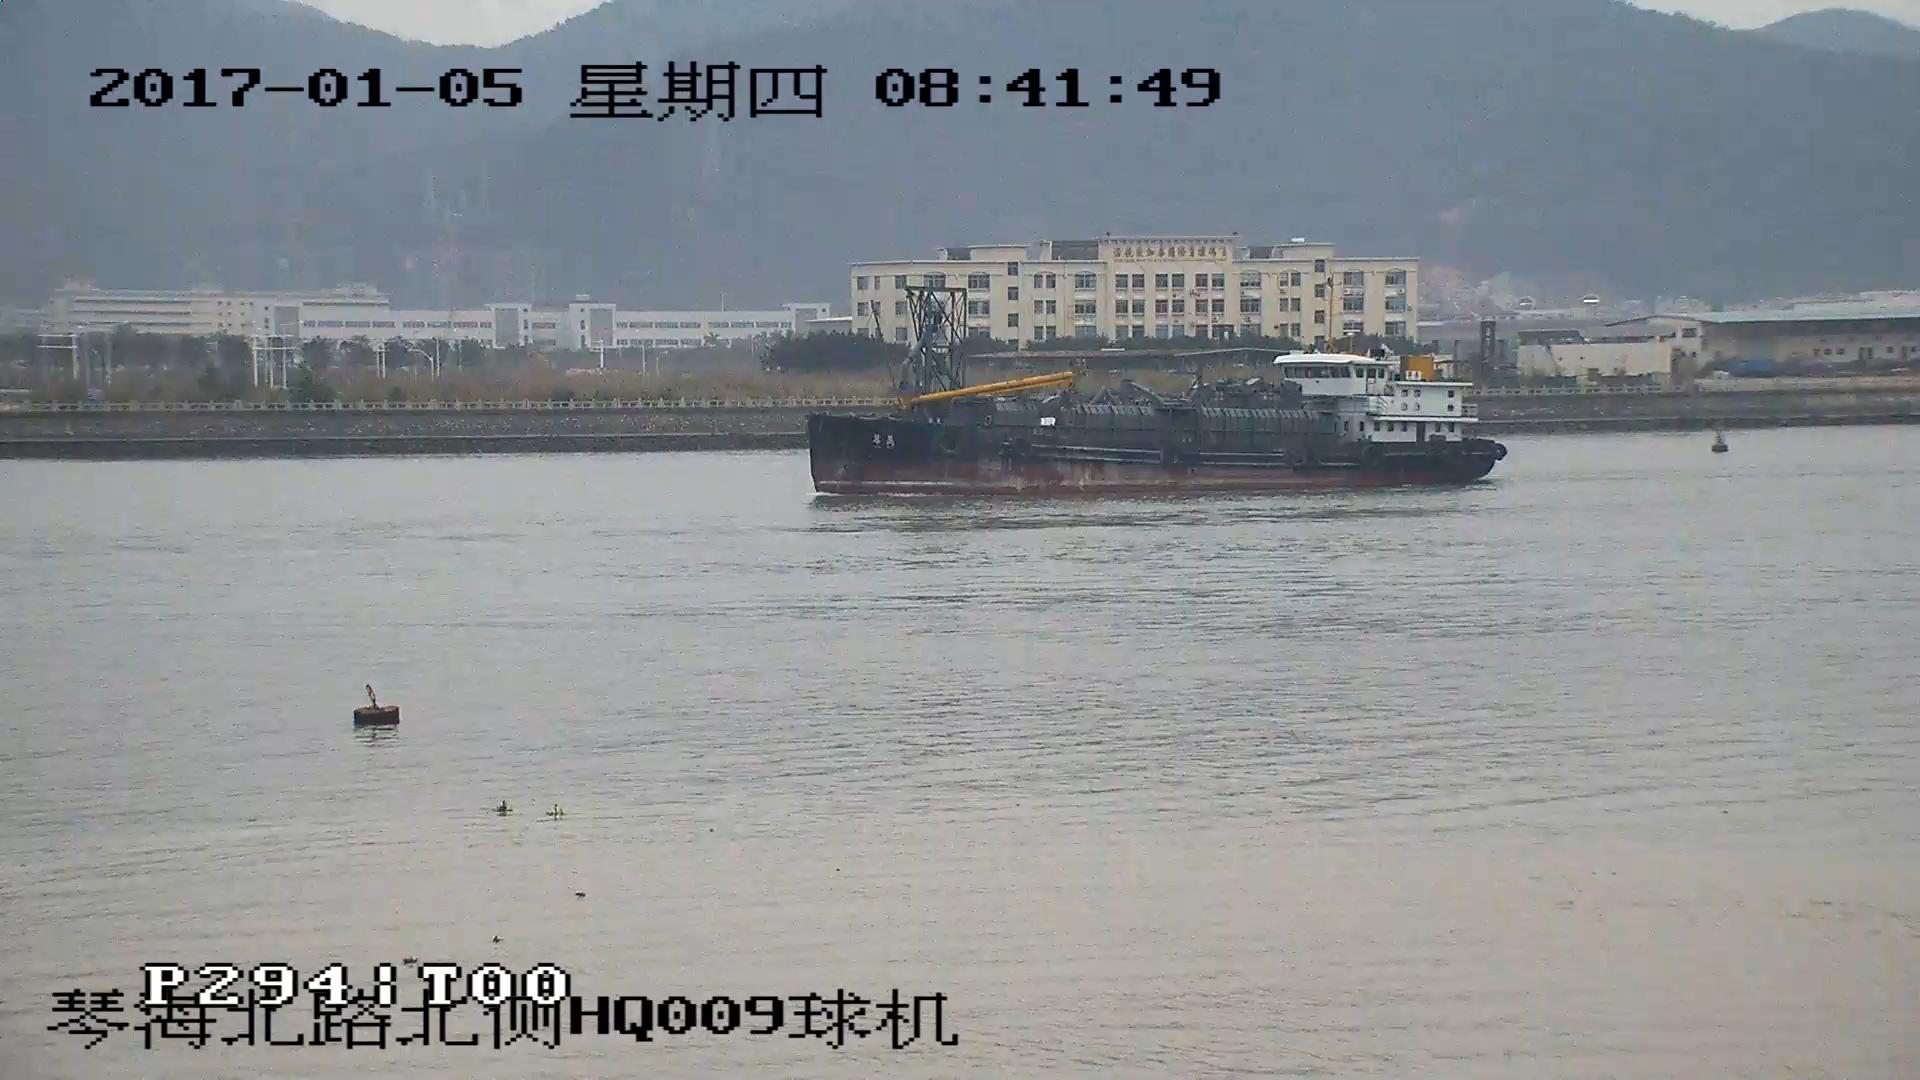bulk cargo carrier: (821, 290, 1499, 497)
